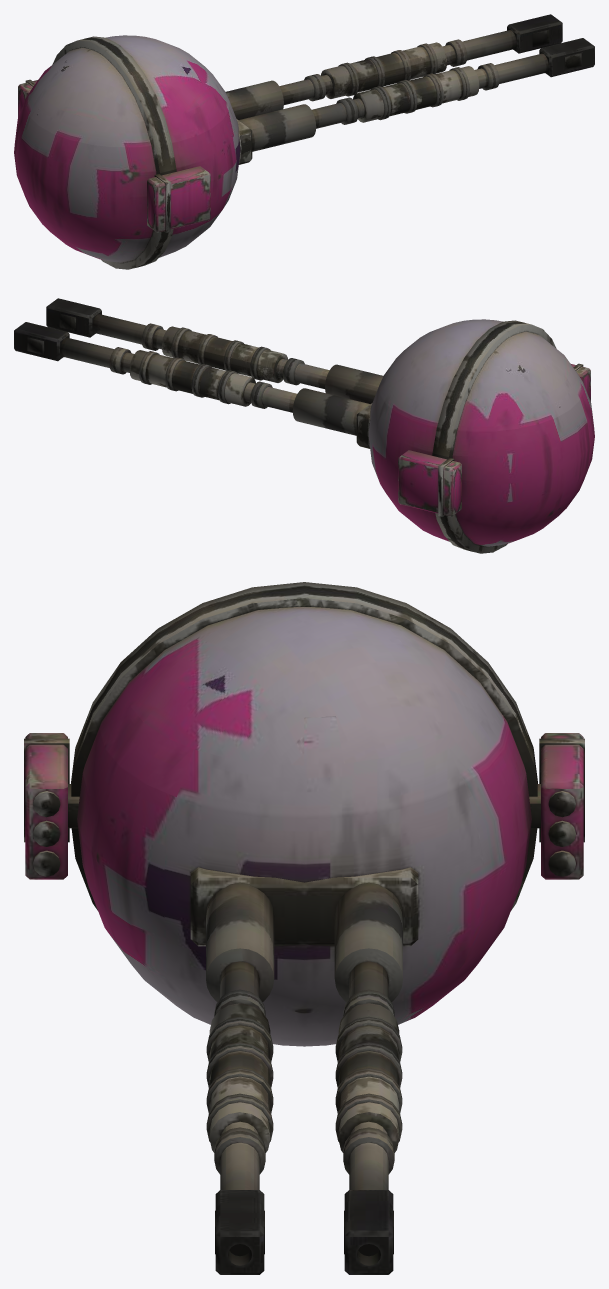
The model's file is turret_kit_tail_ball_t3_pixel.glb.
3 views of the same model, one above another, from view 1: azimuth 30°, elevation 25°; view 2: azimuth 150°, elevation 25°; view 3: azimuth 270°, elevation 25° (orthographic). The views are drawn at different scales.
Parts seen in each view (by area): view 1: turret_tail_ball_t3, pods; view 2: turret_tail_ball_t3, pods; view 3: turret_tail_ball_t3, pods.
Part boxes in pixels (x1,y1,x2,y2): turret_tail_ball_t3: (14, 14, 594, 269); pods: (18, 79, 210, 232); turret_tail_ball_t3: (14, 298, 594, 553); pods: (398, 363, 590, 516); turret_tail_ball_t3: (71, 582, 537, 1274); pods: (24, 733, 584, 879).
Bounding box in the file's own units: 1.66 × 0.62 × 0.7402.
2 materials, 2 textured.
